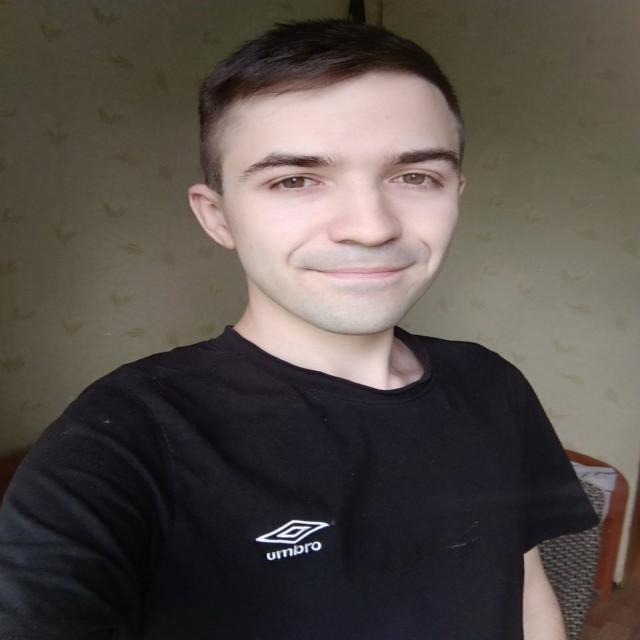earlobe: (210, 222, 236, 250)
eye: (270, 174, 324, 192), (390, 170, 440, 187)
nose: (329, 236, 411, 262)
wholeear: (187, 183, 236, 250)
